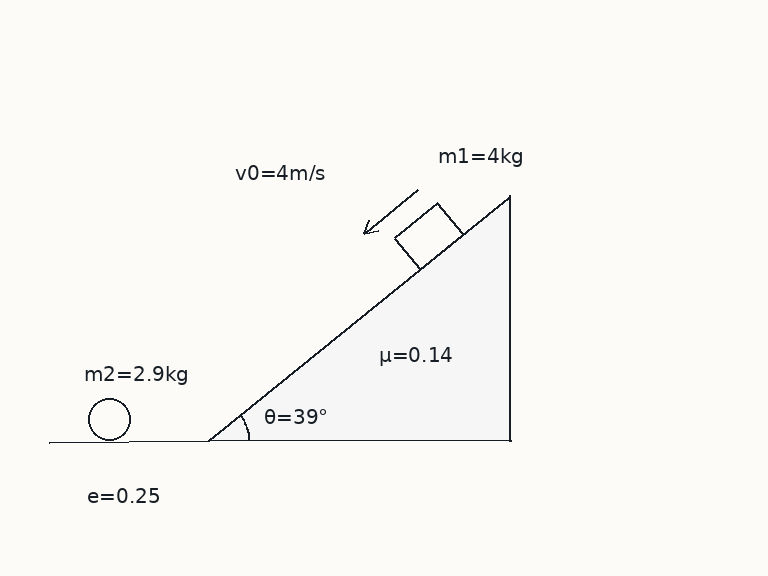ball: (86, 396, 132, 442)
block: (392, 200, 465, 271)
ramp: (207, 194, 512, 442)
